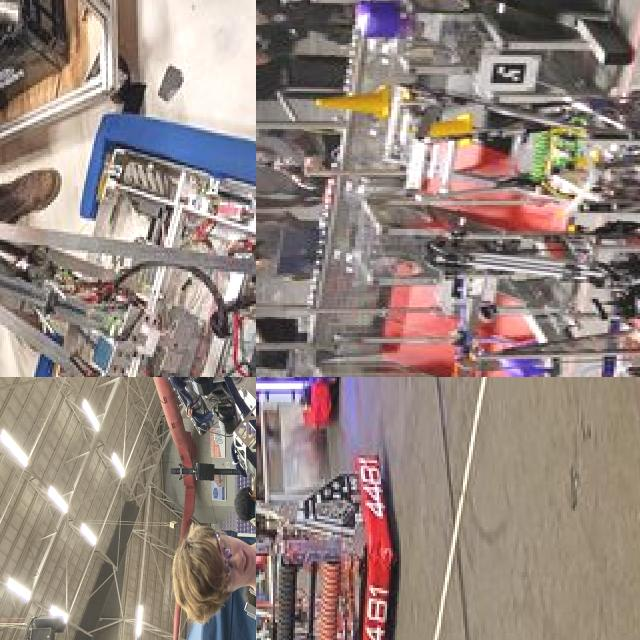FRC-Robots: (0, 68, 256, 377), (392, 62, 640, 212), (256, 471, 448, 640), (145, 377, 256, 640), (407, 221, 640, 345), (415, 324, 640, 377)
